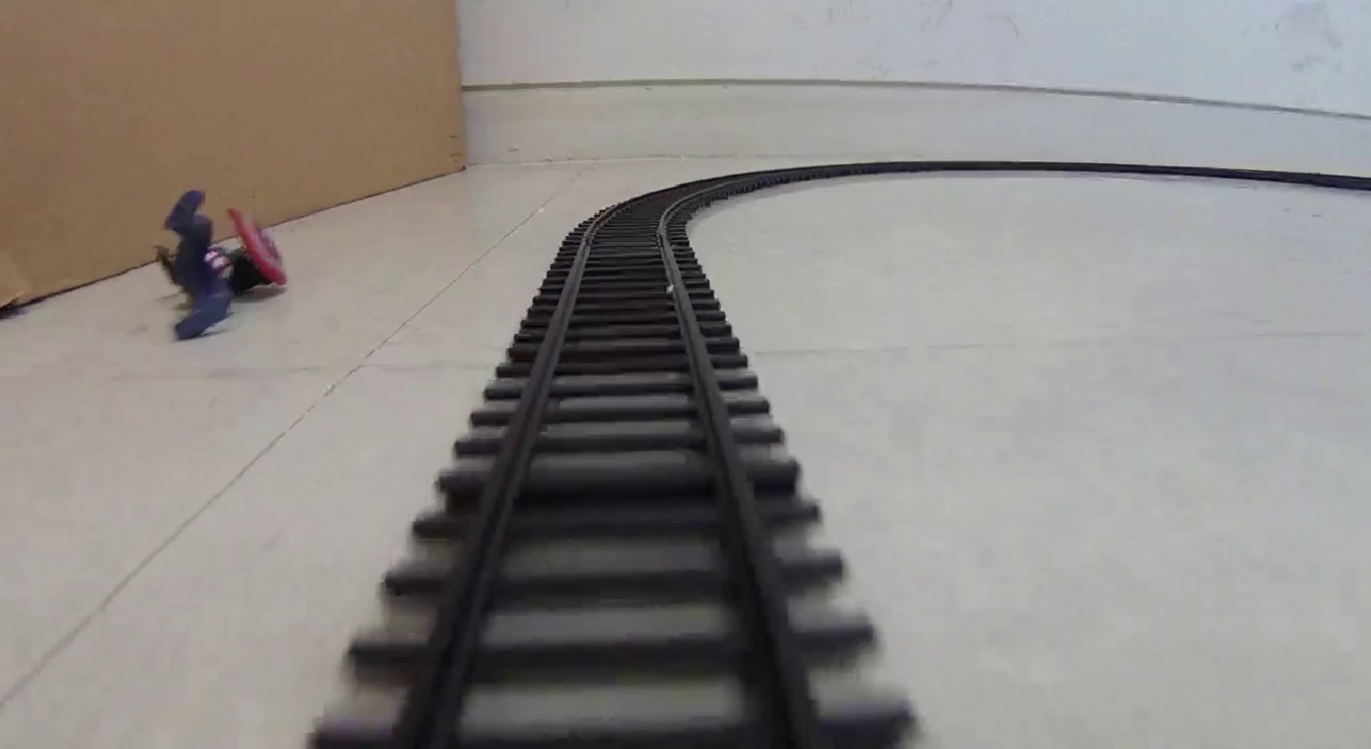people: (158, 189, 288, 333)
